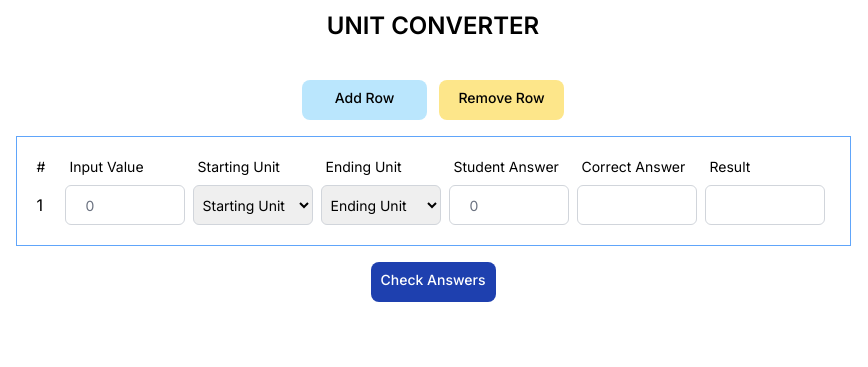
Test: Page component › adds a row when Add Row button is clicked
Click the button "Add Row" at (364, 100), box x1=302 y1=80 x2=427 y2=120
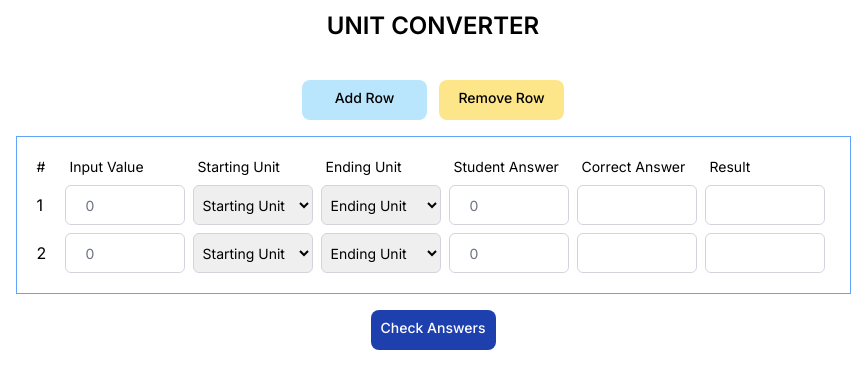
Now the number of elements with test id "question-row" is 2, box x1=36 y1=185 x2=830 y2=225; x1=36 y1=233 x2=830 y2=273
